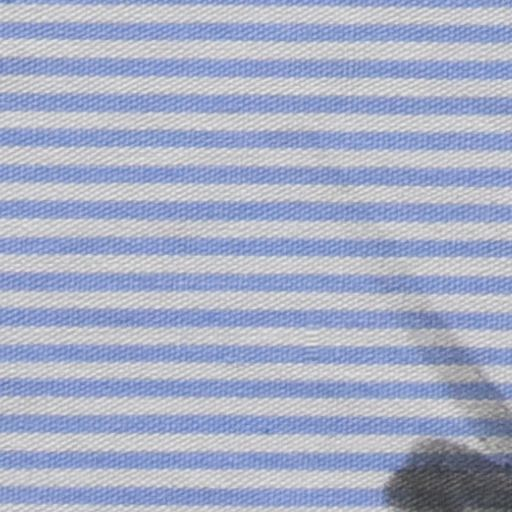defect: (385, 281, 512, 512)
